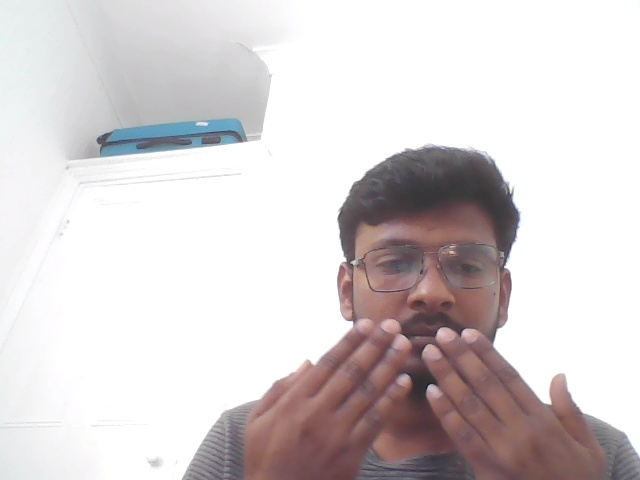Thank You: (198, 302, 631, 474)
